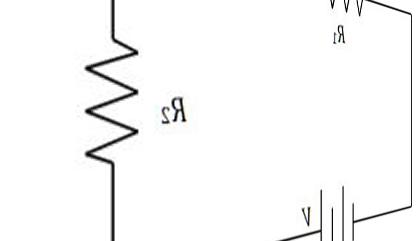resistor: (57, 34, 151, 167)
